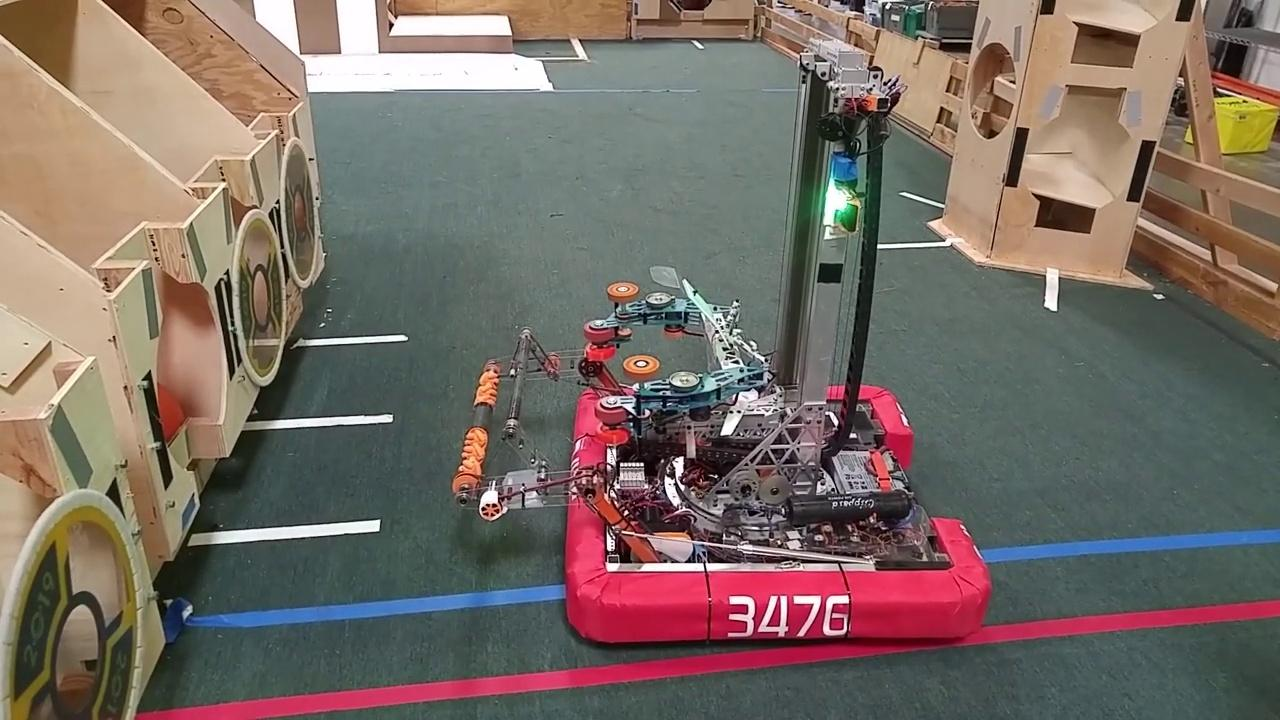robot: (451, 37, 993, 650)
